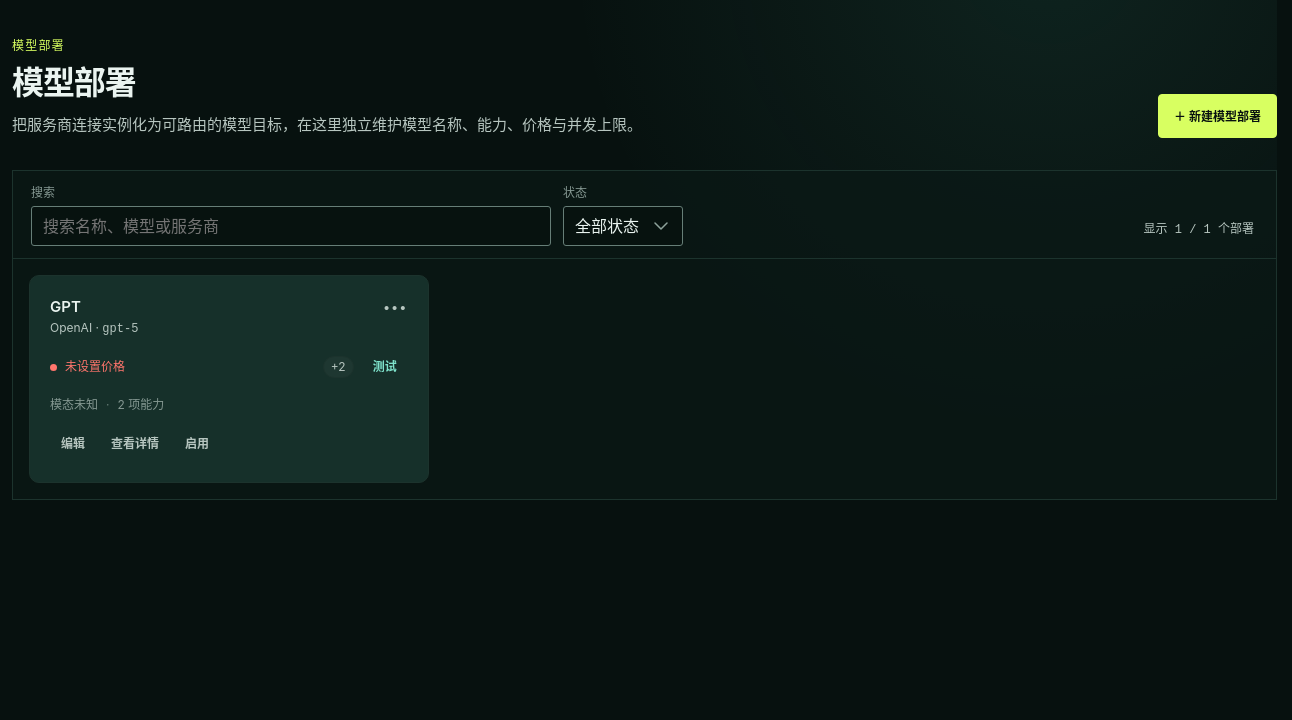
destructive step-up › offers no live write control on the deployments page
Expected: the button "测试" is disabled, 362,350 -> 408,384
Expected: the button "启用" is disabled, 174,426 -> 220,462
Click the heading named "更多操作" at (396, 307), box 383,299 -> 408,315
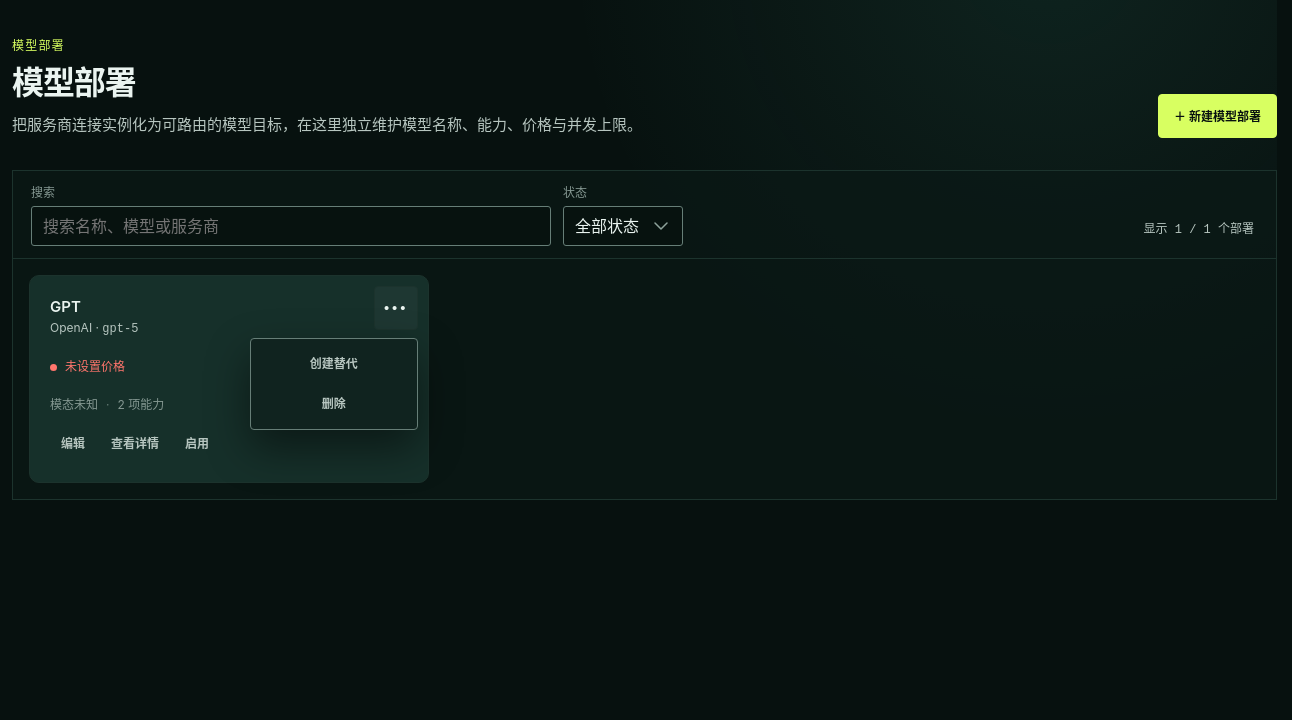
Expected: the button "创建替代" is disabled, 257,345 -> 411,383
